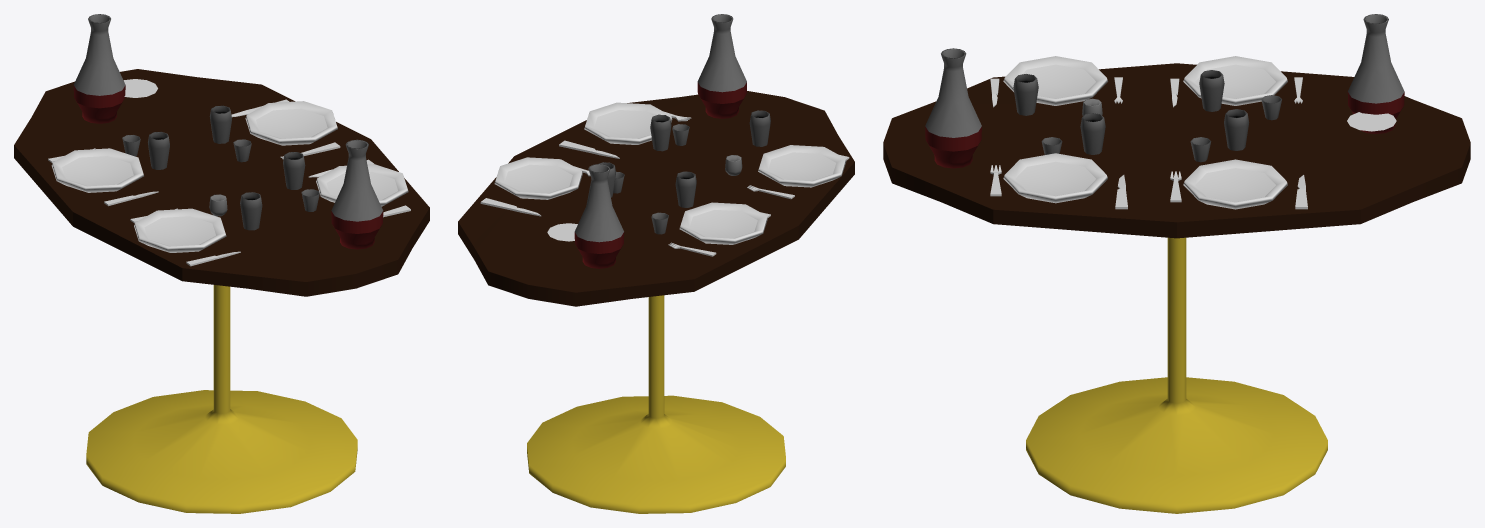
File: CubicleTableDeco.fbx
3 renders of one model, left to right at view 1: azimuth 30°, elevation 25°; view 2: azimuth 150°, elevation 25°; view 3: azimuth 270°, elevation 25°, orthographic. The views are drawn at different scales.
Parts seen in each view (by area): view 1: polySurface142, Bottle07, Bottle06, polySurface135, polySurface123, polySurface131, polySurface127, Glass06, Glass04, Glass05, Glass07, polySurface140; view 2: polySurface142, Bottle07, Bottle06, polySurface135, polySurface123, polySurface131, polySurface127, Glass07, Glass06, Glass05; view 3: polySurface142, Bottle07, polySurface135, polySurface127, Bottle06, polySurface123, polySurface131, Glass04, Glass06, Glass05, Glass07, polySurface140.
Part boxes in pixels (<box>): polySurface142: <box>14,69,429,513</box>; Bottle07: <box>331,139,383,249</box>; Bottle06: <box>73,14,125,123</box>; polySurface135: <box>245,101,337,145</box>; polySurface123: <box>134,208,226,252</box>; polySurface131: <box>51,148,143,192</box>; polySurface127: <box>316,164,408,206</box>; Glass06: <box>240,192,262,230</box>; Glass04: <box>209,105,231,143</box>; Glass05: <box>283,152,305,189</box>; Glass07: <box>148,131,169,169</box>; polySurface140: <box>123,79,157,97</box>; polySurface142: <box>458,91,854,513</box>; Bottle07: <box>697,14,746,118</box>; Bottle06: <box>574,164,624,268</box>; polySurface135: <box>494,157,582,199</box>; polySurface123: <box>758,145,846,187</box>; polySurface131: <box>679,202,767,244</box>; polySurface127: <box>584,102,672,144</box>; Glass07: <box>675,171,696,207</box>; Glass06: <box>749,110,770,146</box>; Glass05: <box>650,114,671,151</box>; polySurface142: <box>883,63,1470,513</box>; Bottle07: <box>925,48,981,168</box>; polySurface135: <box>1183,159,1287,209</box>; polySurface127: <box>1003,153,1107,203</box>; Bottle06: <box>1347,14,1404,133</box>; polySurface123: <box>1003,56,1107,105</box>; polySurface131: <box>1183,56,1287,105</box>; Glass04: <box>1224,109,1249,150</box>; Glass06: <box>1013,74,1038,115</box>; Glass05: <box>1080,113,1105,154</box>; Glass07: <box>1199,70,1224,111</box>; polySurface140: <box>1347,112,1396,131</box>.
Bounding box in the file's own units: 1.81 × 2.2 × 2.83.
